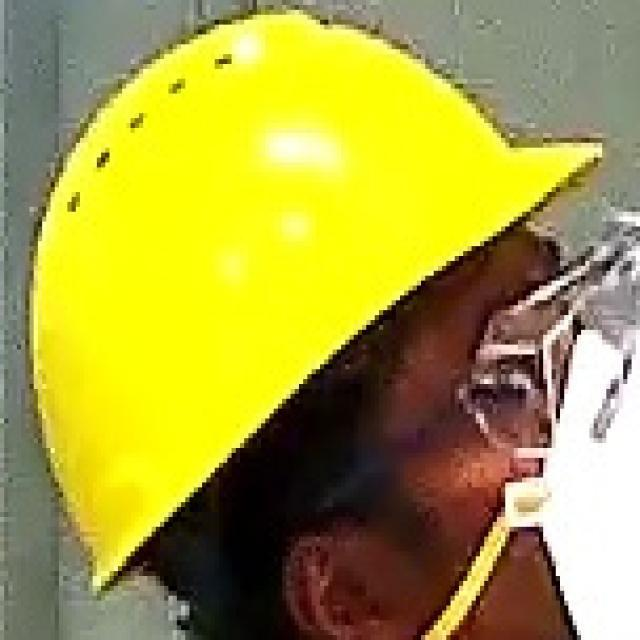yellow helmet: (30, 8, 614, 597)
